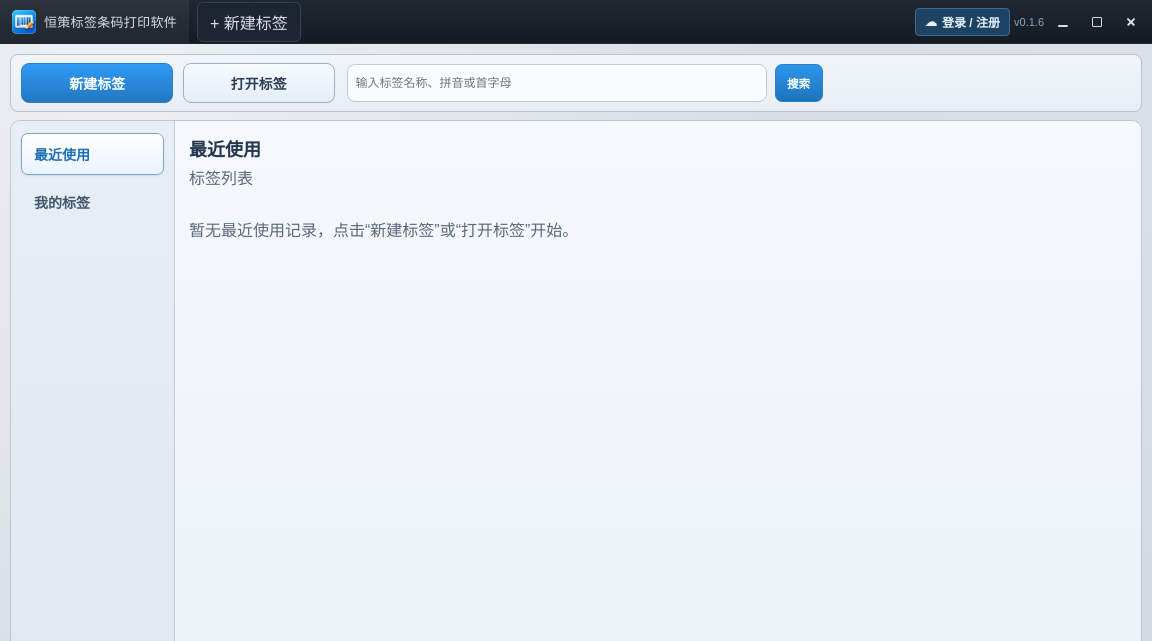
Scenario: App shell › shows the unsaved warning when Escape closes the main UI
This screenshot has width=1152, height=641.
Click the button with class "new-tab" at (249,22), box [197,2,301,42]
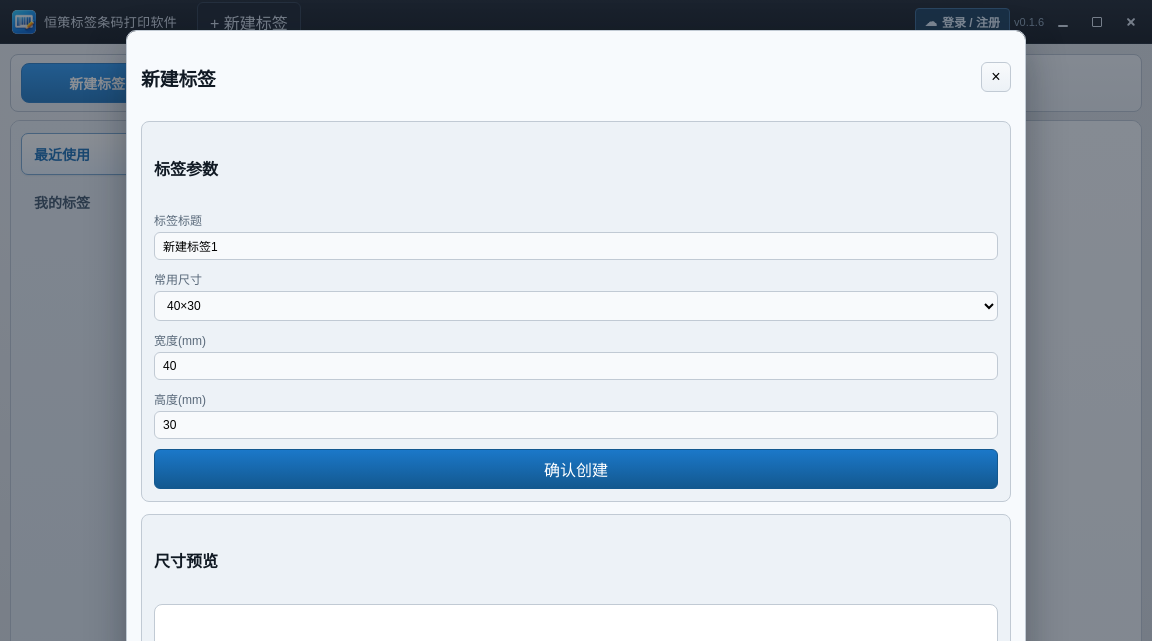
Now the button "确认创建" is shown
Click the button "确认创建" at (576,469), box [154,449,998,489]
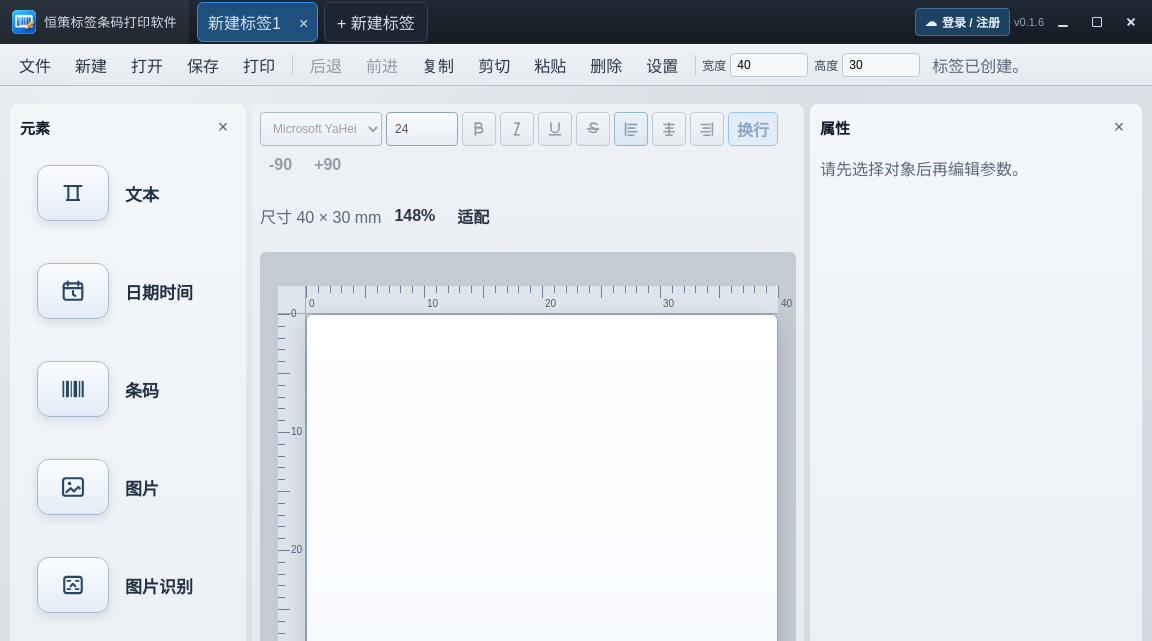
Press Escape
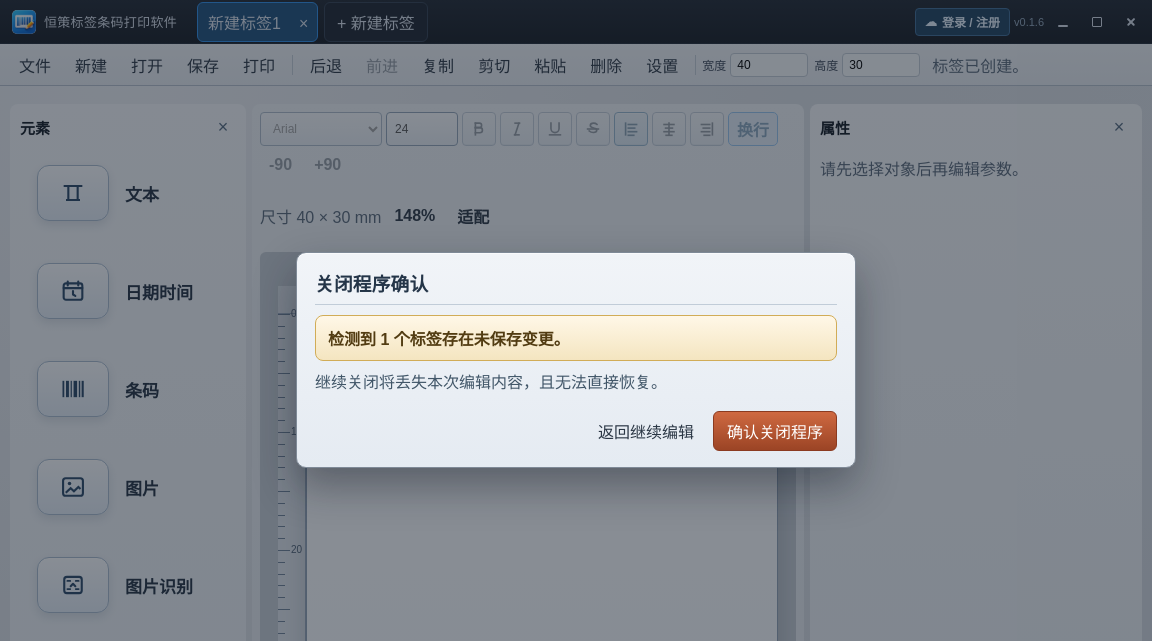
Now the dialog "关闭程序确认" is shown, box [296,252,856,468]
